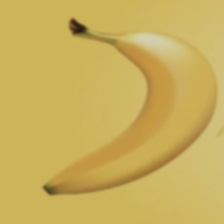banana: (37, 24, 183, 163)
